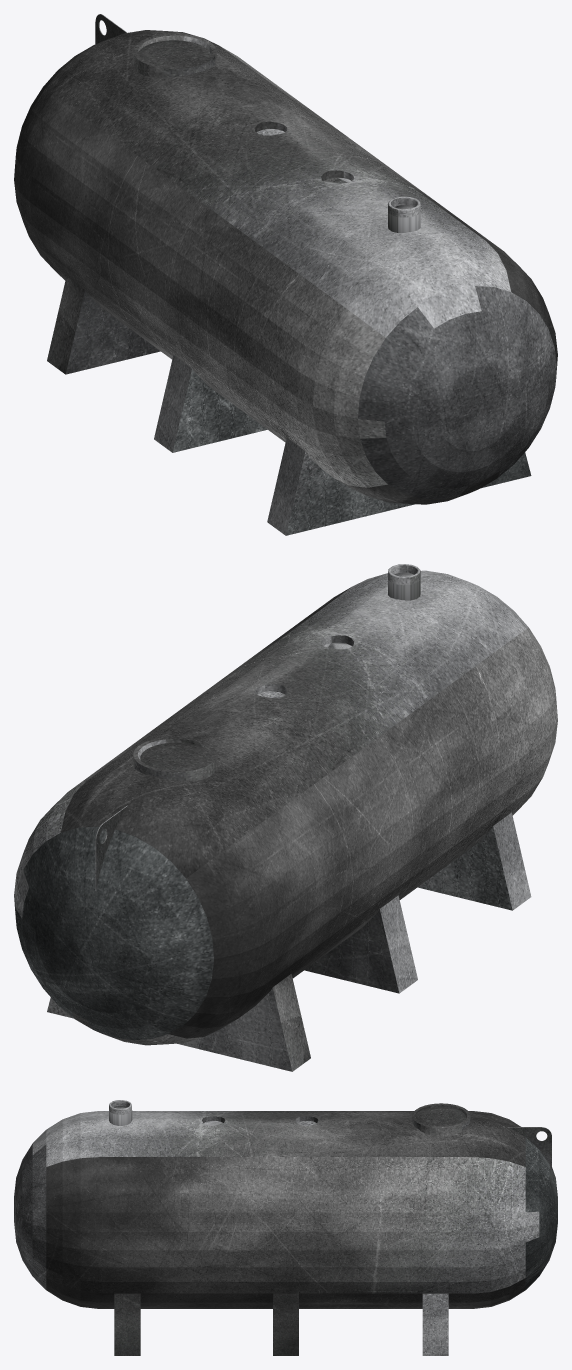
The model's file is tanqueGrande.fbx.
3 renders of one model, top to bottom at view 1: azimuth 30°, elevation 25°; view 2: azimuth 150°, elevation 25°; view 3: azimuth 270°, elevation 25°, orthographic. The views are drawn at different scales.
Visible parts, largest first — view 1: tanque; view 2: tanque; view 3: tanque.
Boxes of the visible parts, bbox=[...] form: tanque: bbox=[14, 14, 557, 535]; tanque: bbox=[14, 564, 557, 1071]; tanque: bbox=[14, 1100, 557, 1355].
Size of the model in its own units: 200 by 233 by 549.
Materials: 1 (1 with a texture image).
